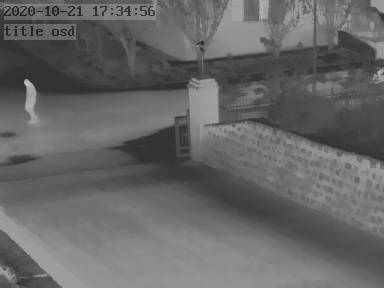person: (23, 78, 40, 122)
